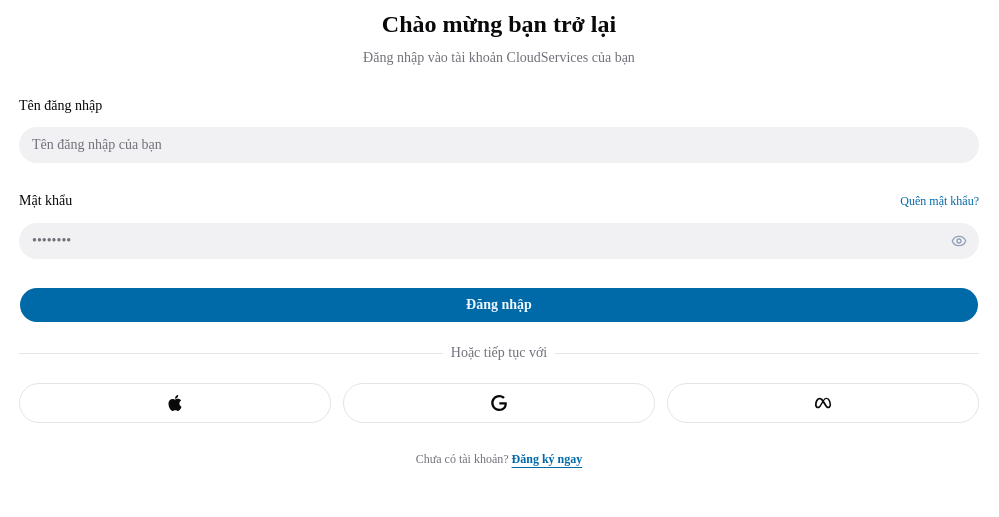
LoginForm Component › should display error when password is less than 6 characters
Type "testuser" into the field labelled "Tên đăng nhập".
click(499, 145); type("testuser")  # box [19,127,979,163]
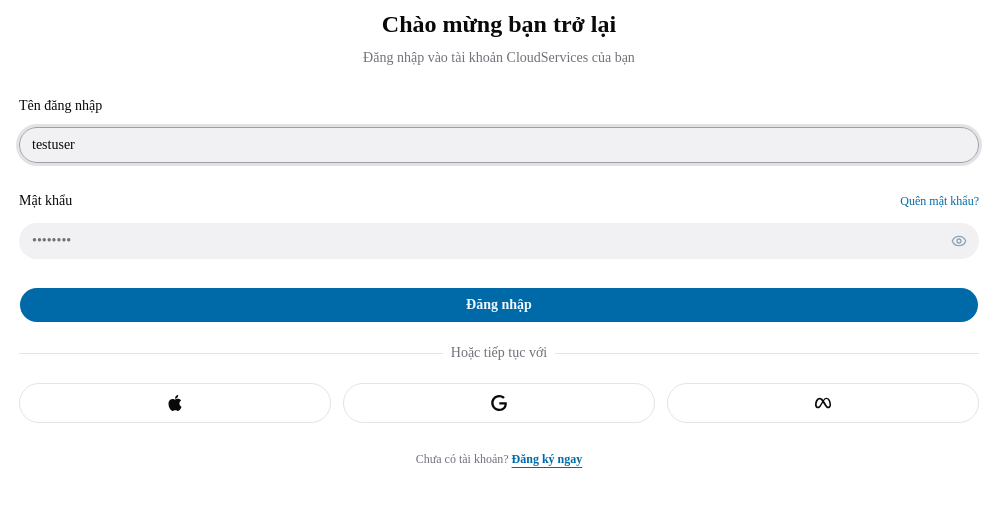
Type "123" into the password field labelled "Mật khẩu".
click(499, 240); type("123")  # box [19,222,979,258]
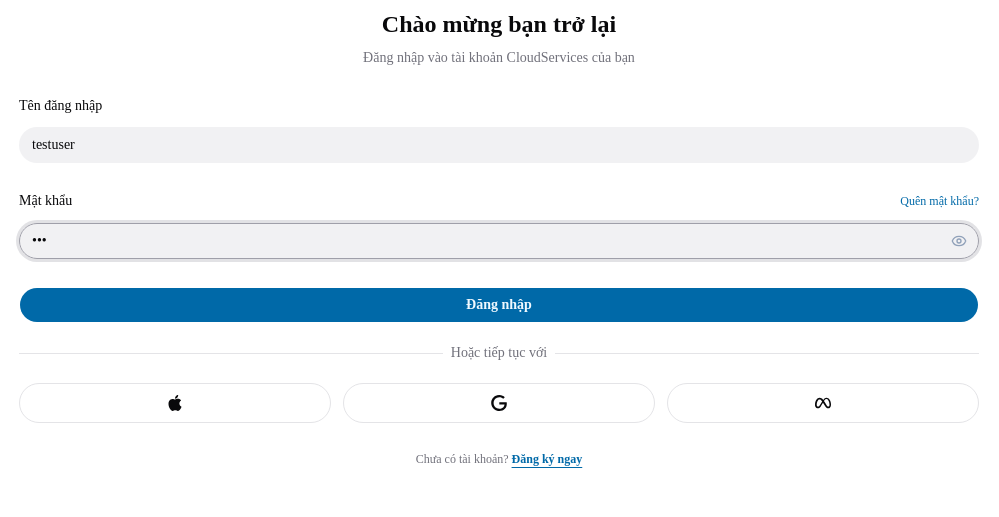
Click the button "Đăng nhập".
click(499, 304)  # box [19,286,979,322]
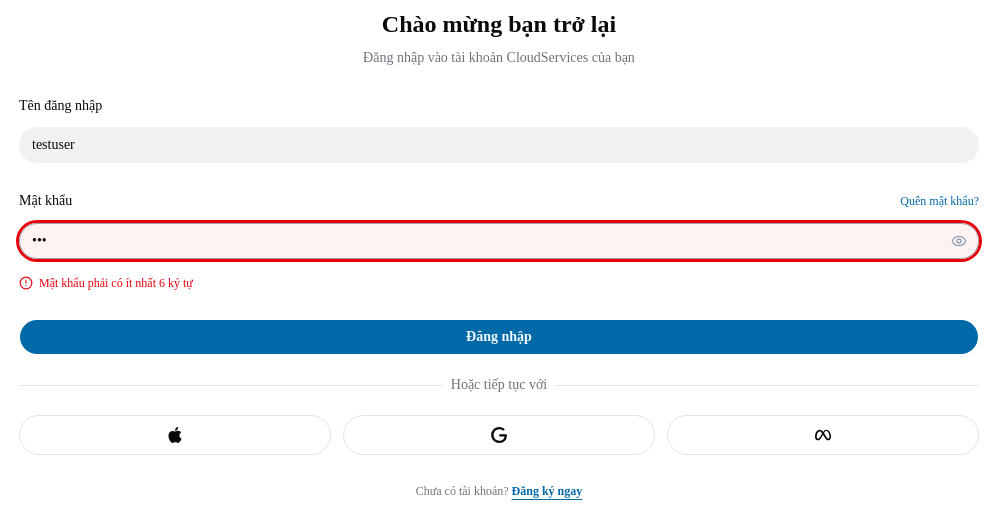
Now the text "Mật khẩu phải có ít nhất 6 ký tự" is shown, box [39,274,193,290]
